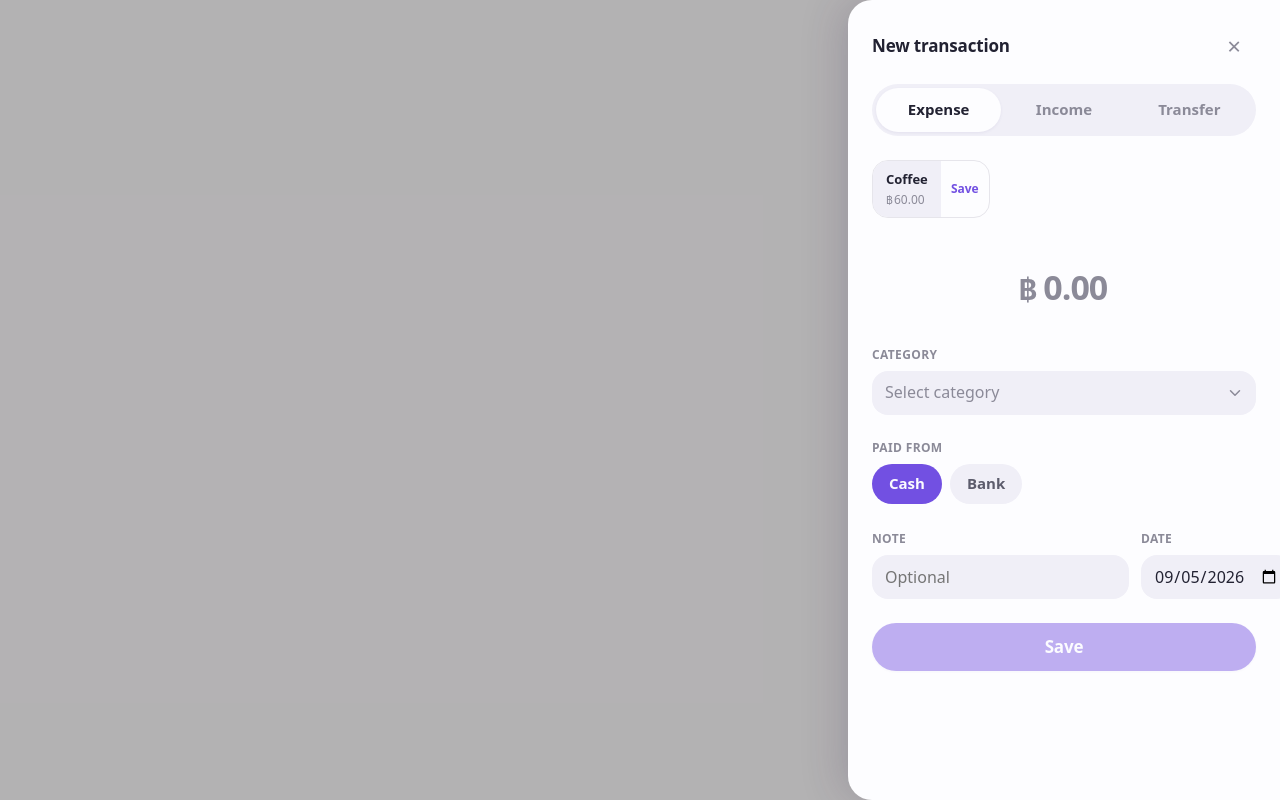
Test: AddTransactionSheet › prefills the form from a one-tap repeat chip
What coordinates should you click on to do the following:
click the button "Coffee ฿60.00"
I would click on:
 (907, 189)
Its box is [873,161,941,217].
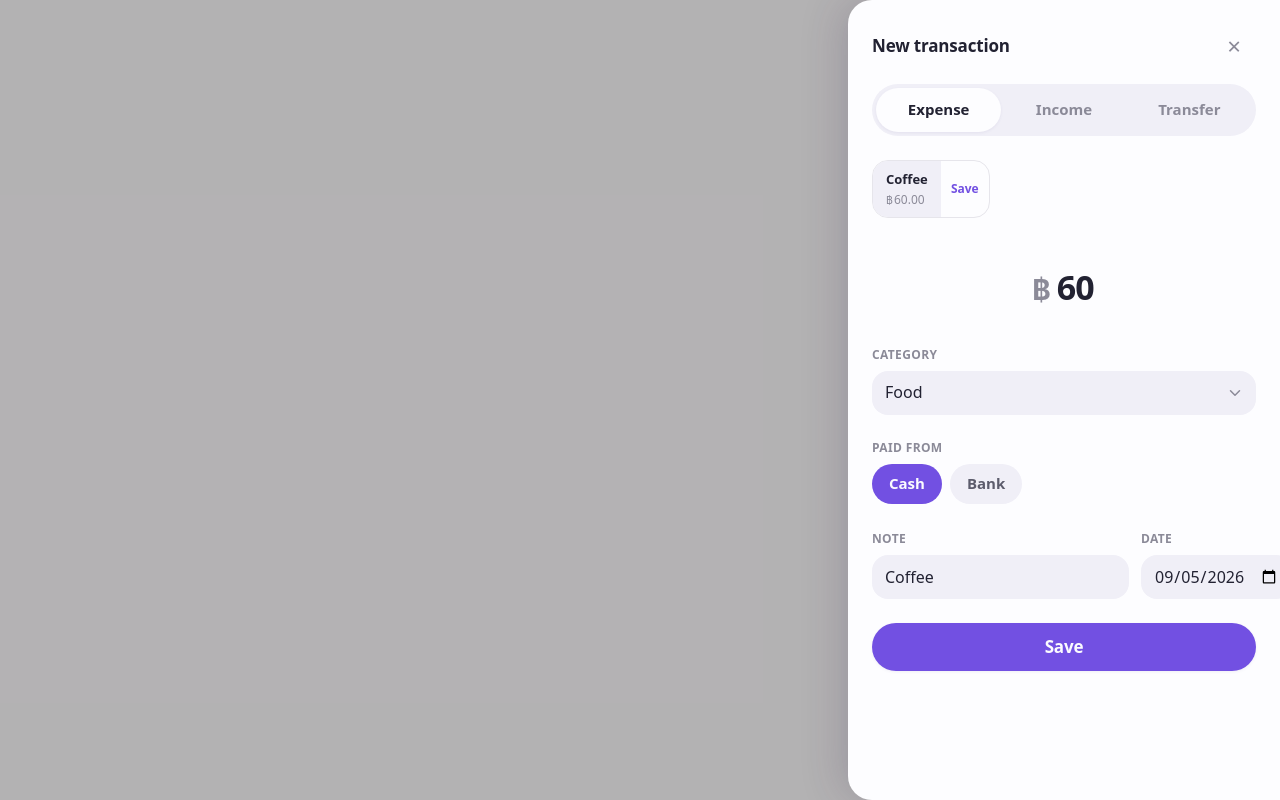
Now the field named "Amount in baht" holds "60", box [1055,262,1096,314]
Now the 2nd button "Save" is enabled, box [872,624,1256,672]
